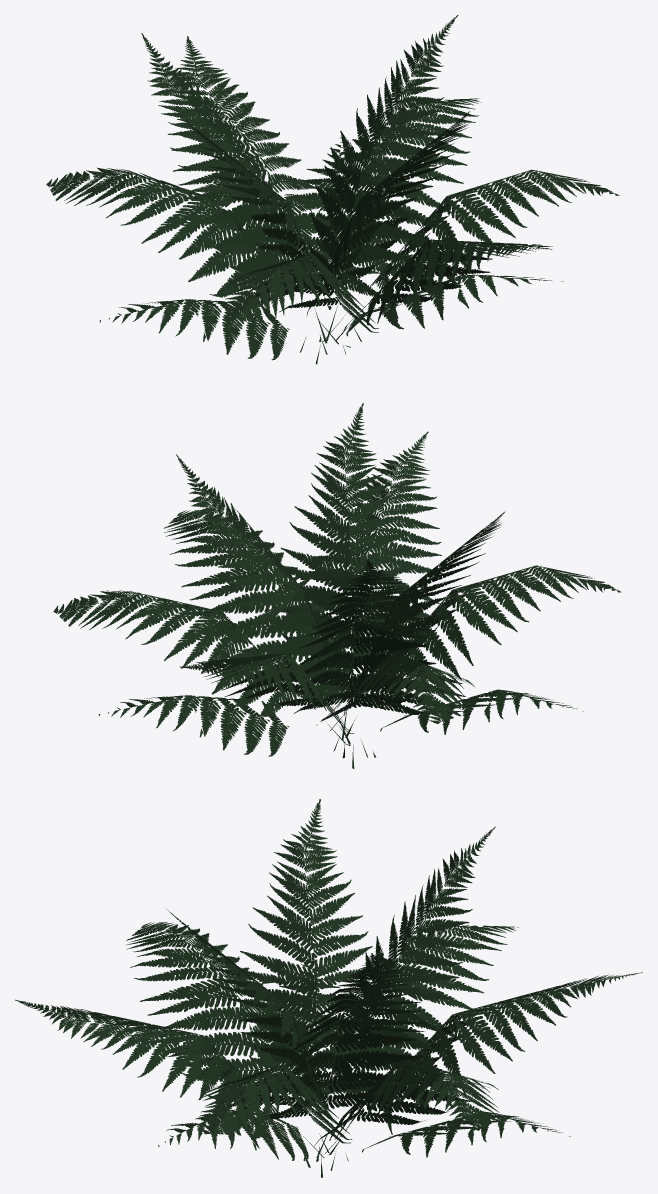
File: medium_foliage_02.glb
The picture shows the model from 3 angles, top to bottom: view 1: azimuth 30°, elevation 25°; view 2: azimuth 150°, elevation 25°; view 3: azimuth 270°, elevation 25°; orthographic projection. The views are drawn at different scales.
Parts seen in each view (by area): view 1: Plane.113; view 2: Plane.113; view 3: Plane.113.
Part boxes in pixels (x1=…): Plane.113: x1=46, y1=15, x2=619, y2=364; Plane.113: x1=53, y1=403, x2=621, y2=768; Plane.113: x1=15, y1=799, x2=642, y2=1177.
Bounding box in the file's own units: 3.34 × 1.67 × 3.26.
1 material, 1 textured.
